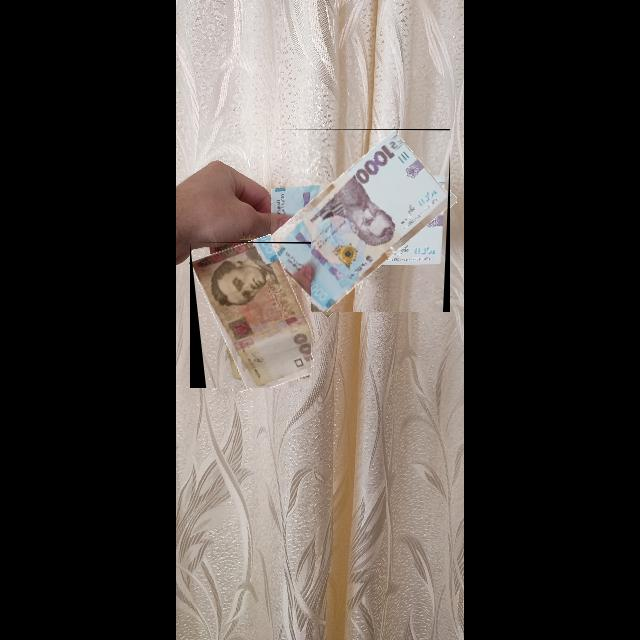1000uah: (271, 130, 449, 313)
100uah: (192, 242, 312, 389)
